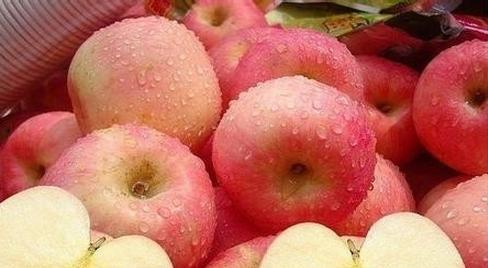apple: (42, 119, 218, 264), (213, 75, 378, 227), (72, 15, 218, 155)
